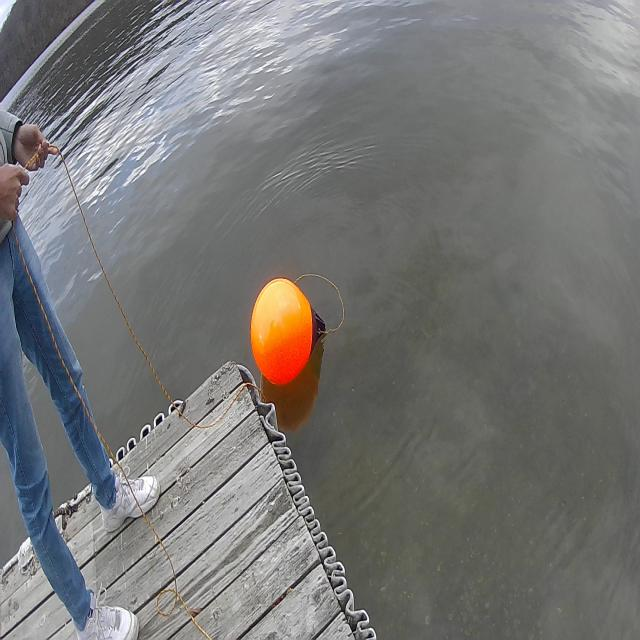Buoy: (244, 266, 330, 397)
